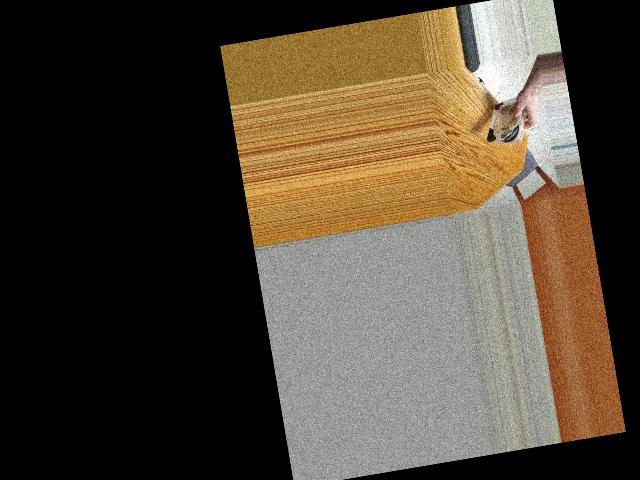cheese: (483, 91, 526, 145)
